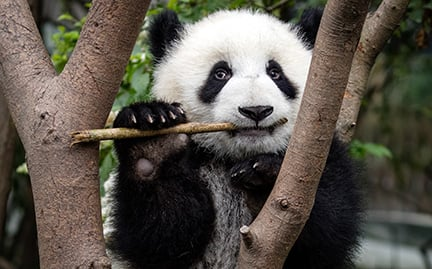panda: (79, 5, 374, 249)
